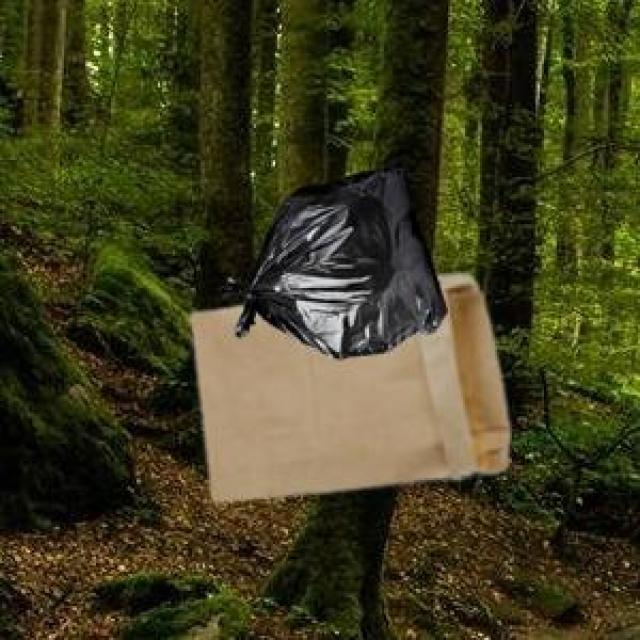miscellaneous trash: (214, 158, 442, 354)
paper: (189, 271, 506, 497)
